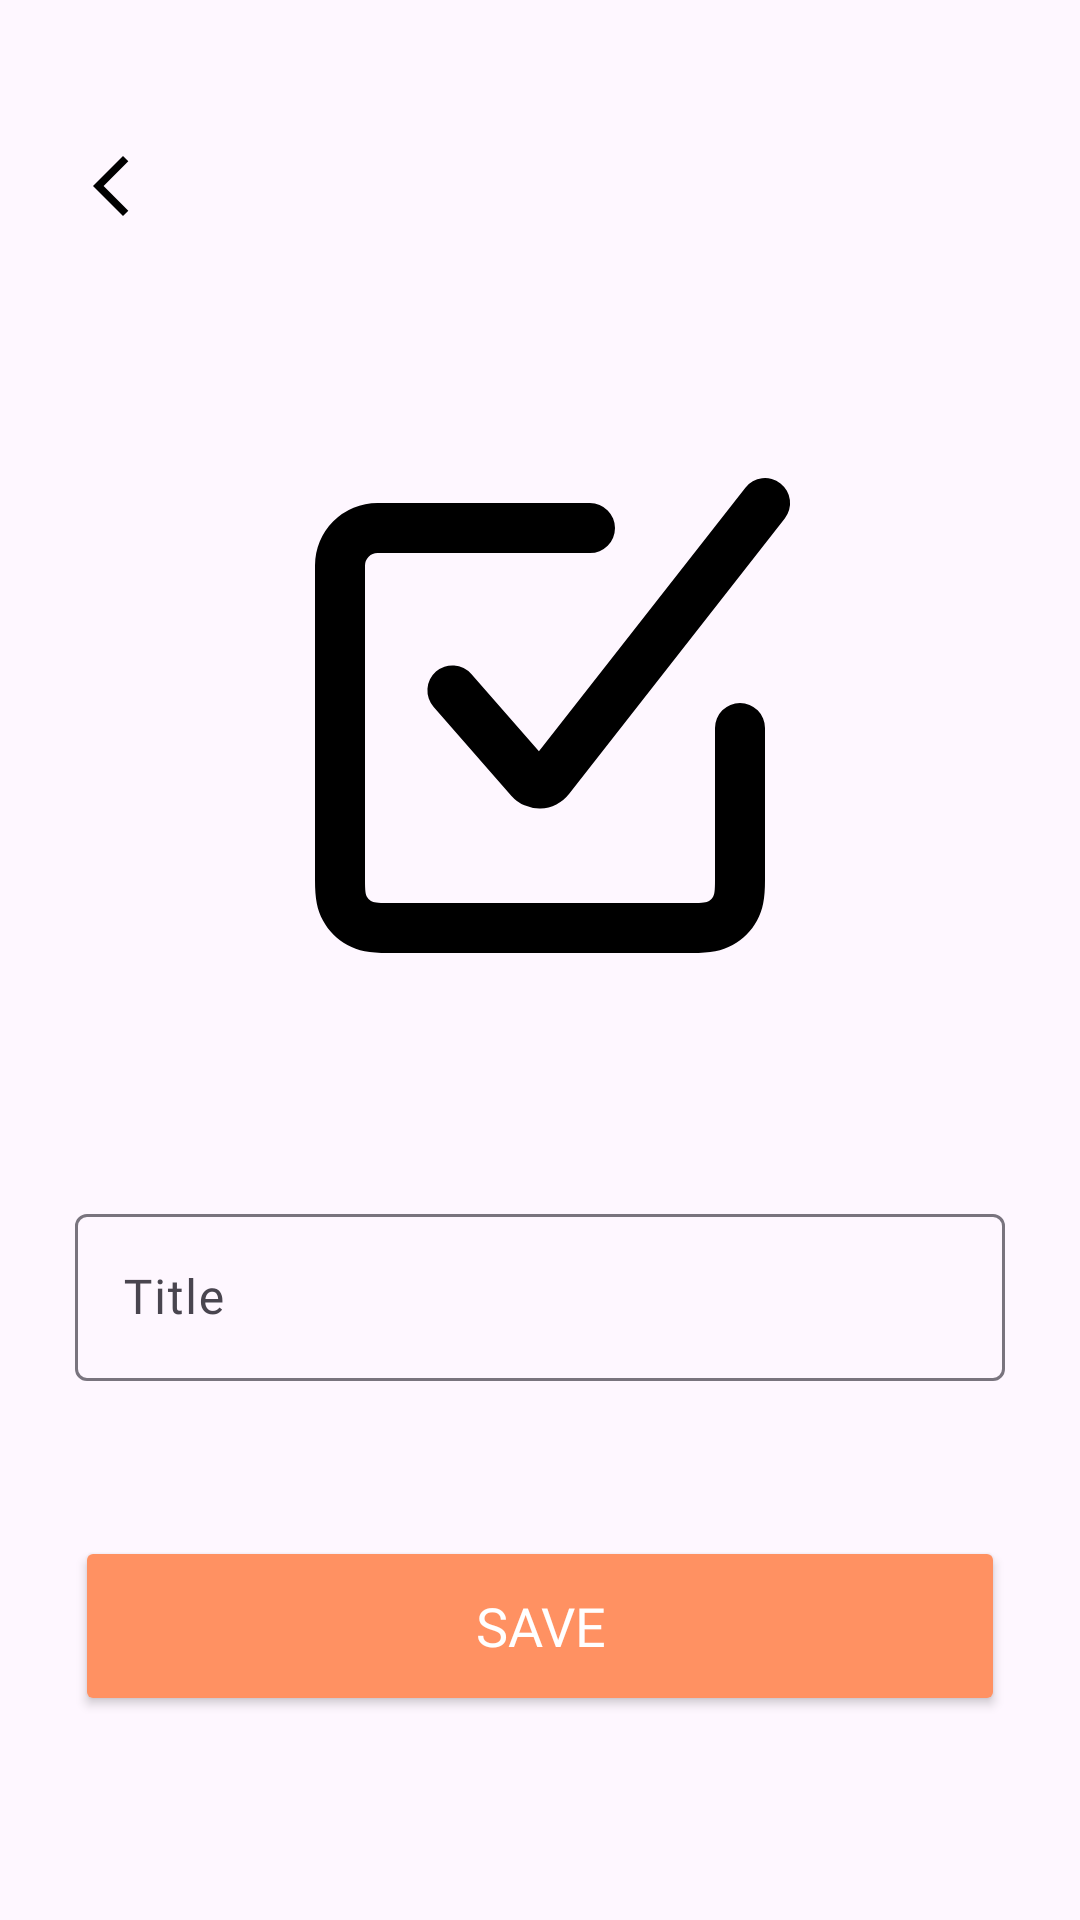

Point at icon controls on the screen. Image size 1080w x 1920h, points as (x,y).
back: (110,186)
